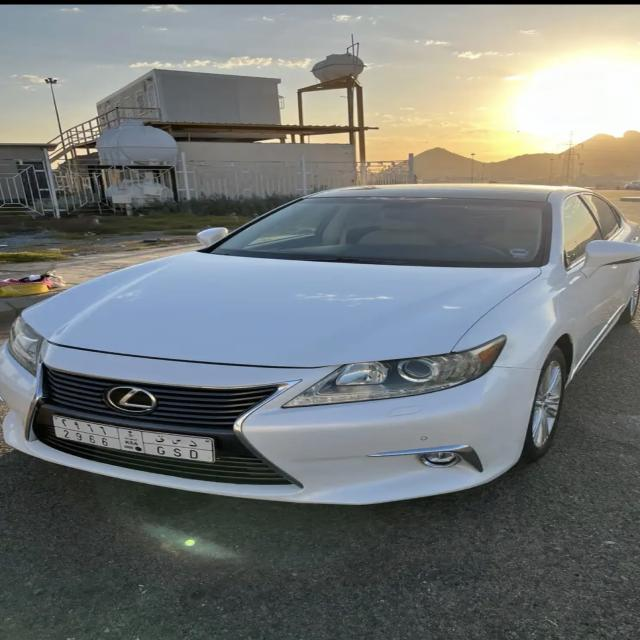license_plate: (52, 413, 215, 463)
